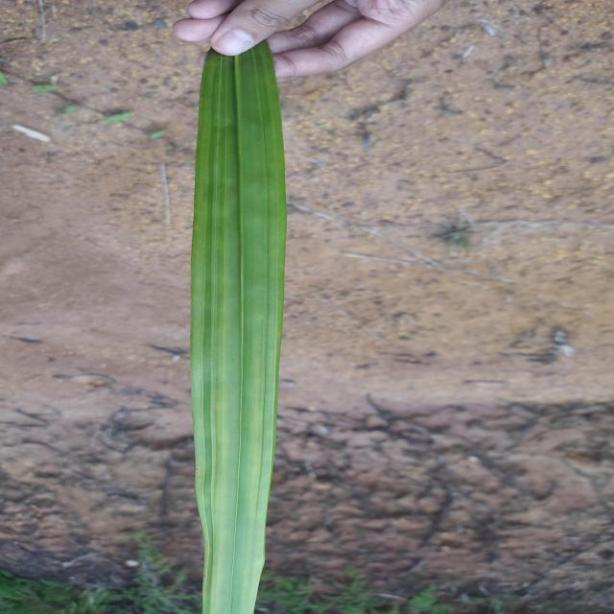nitrogen: (187, 48, 286, 614)
